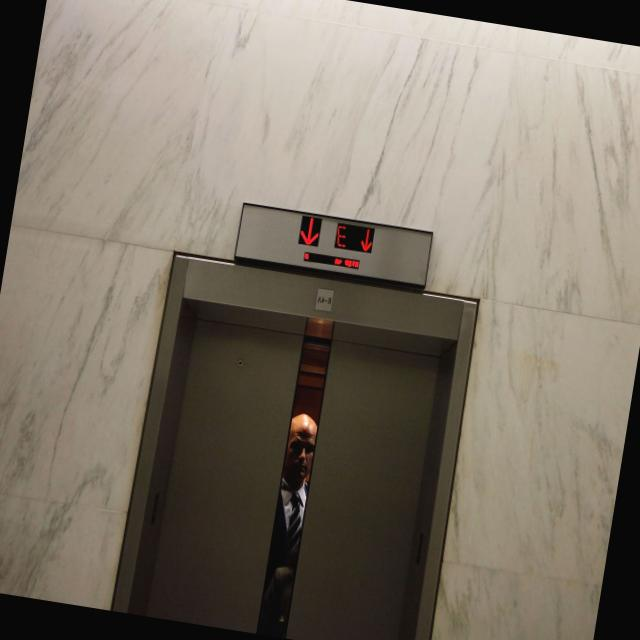elevator: (96, 162, 509, 640)
